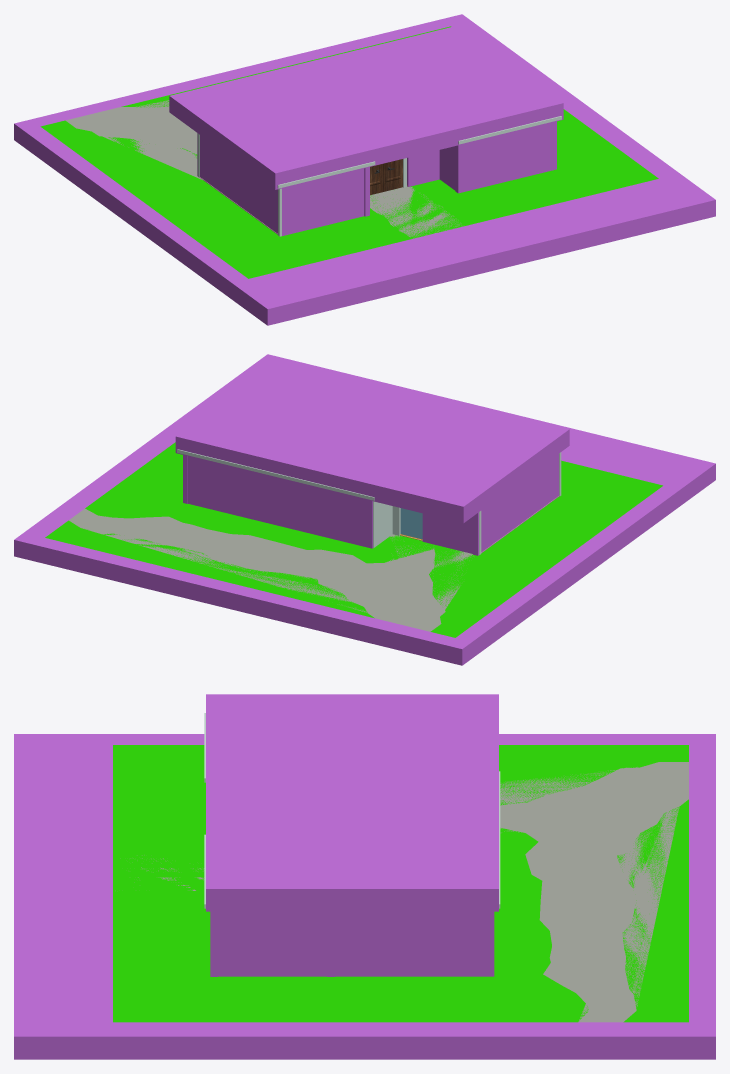
Rendered from Casa_coliciones3.fbx.
3 renders of one model, top to bottom at view 1: azimuth 30°, elevation 25°; view 2: azimuth 150°, elevation 25°; view 3: azimuth 270°, elevation 25°, orthographic. The views are drawn at different scales.
Visible parts, largest first — view 1: Cubo.016, Cubo.017, Plano, Cubo.008, Cubo.007, Cubo.001, Cubo.018, Techo, Cubo.003, Puerta.028; view 2: Plano, Cubo.017, Cubo.016, Cubo.006, Cubo.001, Cubo.015, Muros, Techo, Ventana_Deslizable.011; view 3: Plano, Cubo.016, Cubo.017, Cubo.002.
Boxes of the visible parts, bbox=[...] form: Cubo.016: bbox=[14, 14, 715, 325]; Cubo.017: bbox=[169, 25, 563, 189]; Plano: bbox=[40, 26, 658, 278]; Cubo.008: bbox=[455, 121, 556, 193]; Cubo.007: bbox=[282, 168, 364, 235]; Cubo.001: bbox=[197, 133, 277, 234]; Cubo.018: bbox=[407, 150, 439, 186]; Techo: bbox=[277, 116, 561, 188]; Cubo.003: bbox=[439, 146, 455, 190]; Puerta.028: bbox=[383, 159, 402, 191]; Plano: bbox=[45, 442, 662, 637]; Cubo.017: bbox=[175, 359, 569, 523]; Cubo.016: bbox=[14, 354, 715, 665]; Cubo.006: bbox=[188, 456, 372, 548]; Cubo.001: bbox=[473, 454, 558, 555]; Cubo.015: bbox=[422, 513, 472, 553]; Muros: bbox=[373, 452, 561, 555]; Techo: bbox=[177, 449, 374, 500]; Ventana_Deslizable.011: bbox=[400, 508, 422, 539]; Plano: bbox=[113, 745, 688, 1022]; Cubo.016: bbox=[14, 734, 715, 1059]; Cubo.017: bbox=[206, 694, 498, 911]; Cubo.002: bbox=[218, 911, 494, 976].
Size of the model in its own units: 2691 by 2637 by 475.
Materials: 10 (2 with a texture image).
